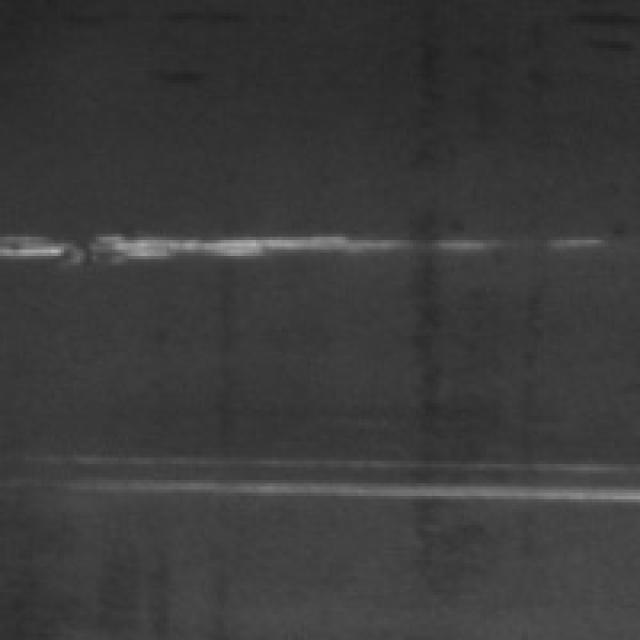scratches: (45, 436, 630, 502), (0, 214, 570, 269)
